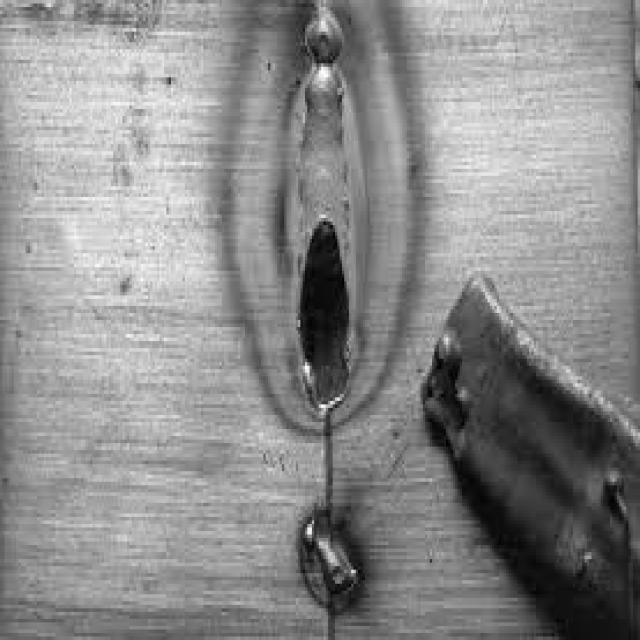Bad Weld: (288, 6, 354, 412)
Defect: (298, 218, 347, 401)
